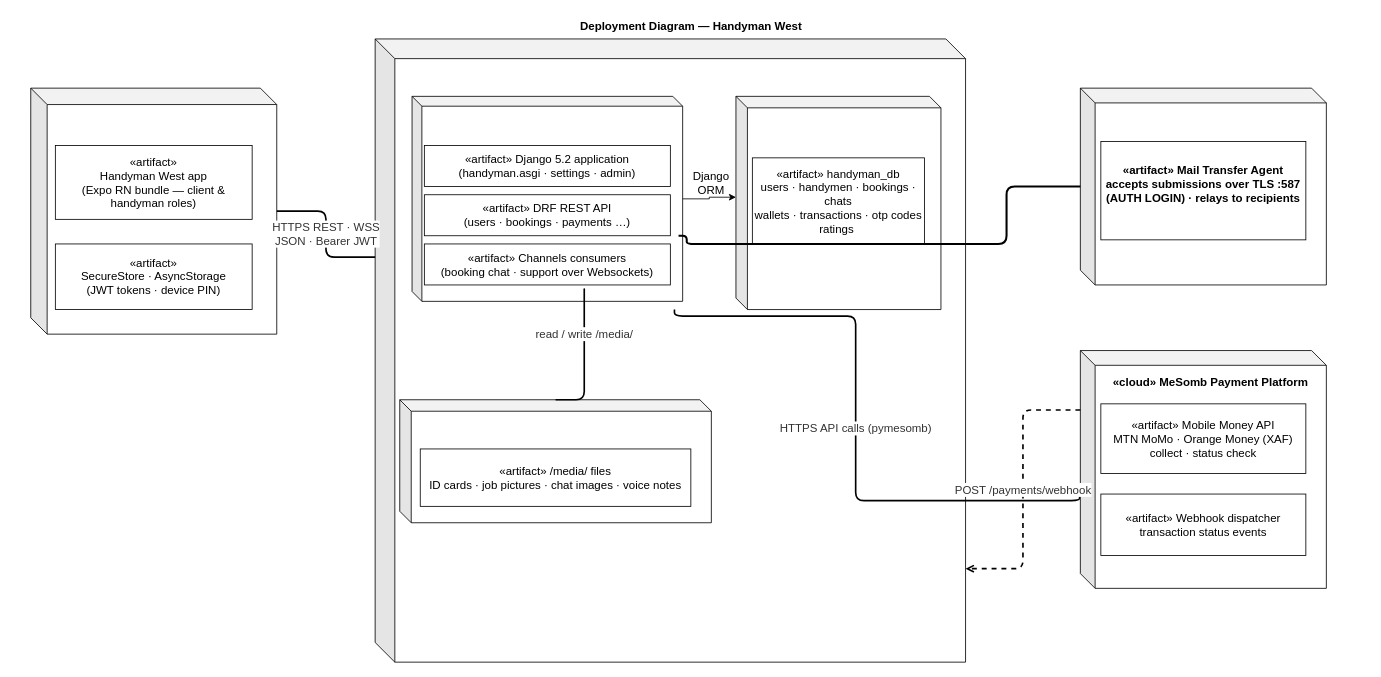
Image size: 1381x677. Some labels were removed from this diagram. The box of each missing label's shape, as (x1, y1, x2, y2) in pixels:
«cloud» Railway PaaS: (374, 38, 966, 662)
«device» Smartphone (Android · iOS): (30, 87, 277, 334)
«device» SMTP Mail Server: (1080, 87, 1326, 285)
«executionEnvironment» Daphne ASGI Server: (411, 96, 683, 301)
«executionEnvironment» Persistent Volume: (399, 399, 711, 523)
«executionEnvironment» PostgreSQL: (735, 96, 941, 310)
